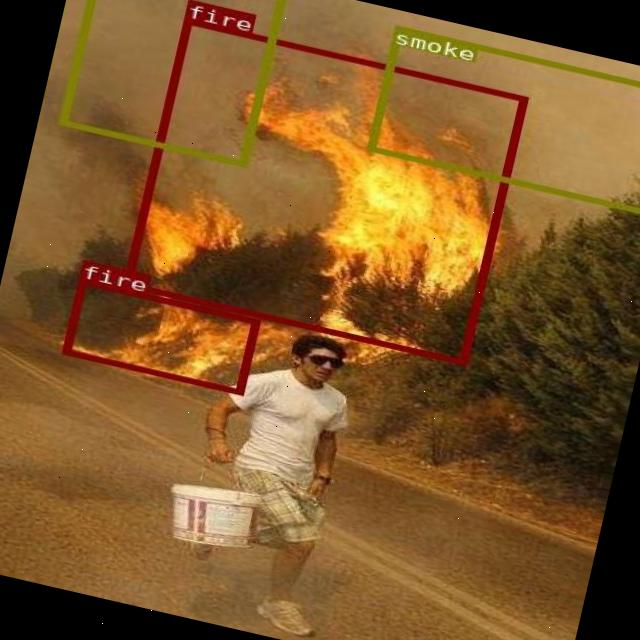fire: (121, 16, 526, 364), (61, 276, 259, 394)
smoke: (364, 25, 640, 218), (57, 0, 284, 165)
